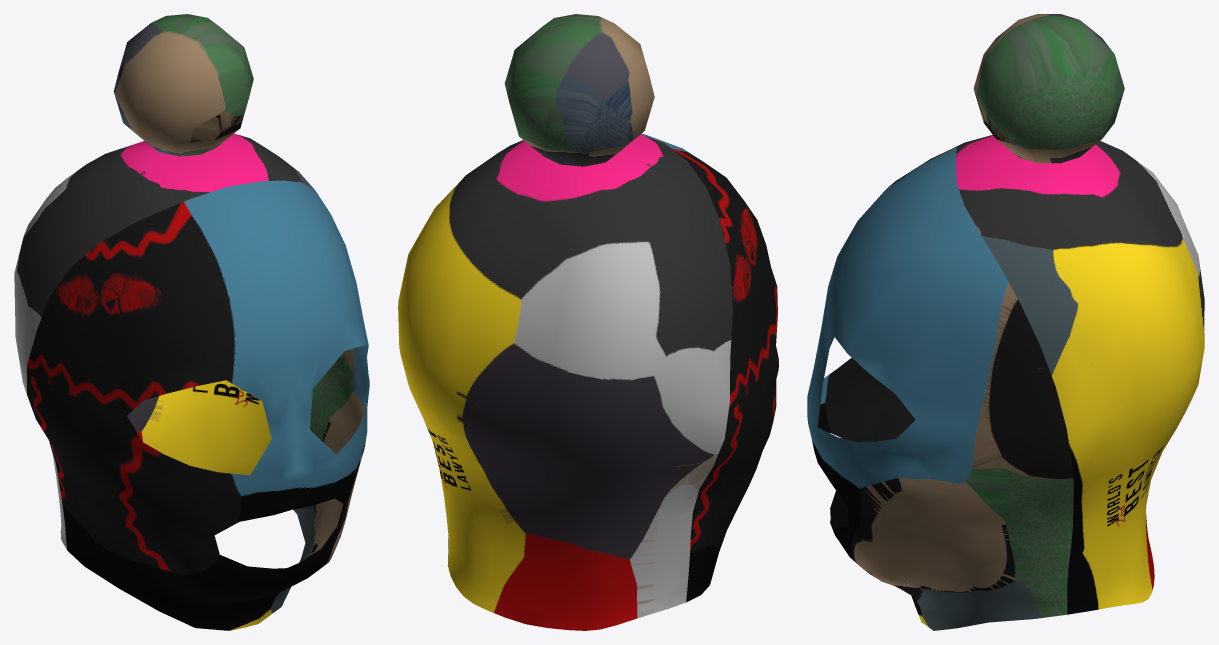
File: Gorro_lana.fbx
3 renders of one model, left to right at view 1: azimuth 30°, elevation 25°; view 2: azimuth 150°, elevation 25°; view 3: azimuth 270°, elevation 25°, orthographic. The views are drawn at different scales.
Visible parts, largest first — view 1: uwu; view 2: uwu; view 3: uwu.
Part boxes in pixels (x1,y1,x2,y2): uwu: (14, 14, 369, 630); uwu: (398, 14, 778, 630); uwu: (807, 14, 1204, 630).
Size of the model in its own units: 78.11 by 142 by 85.78.
